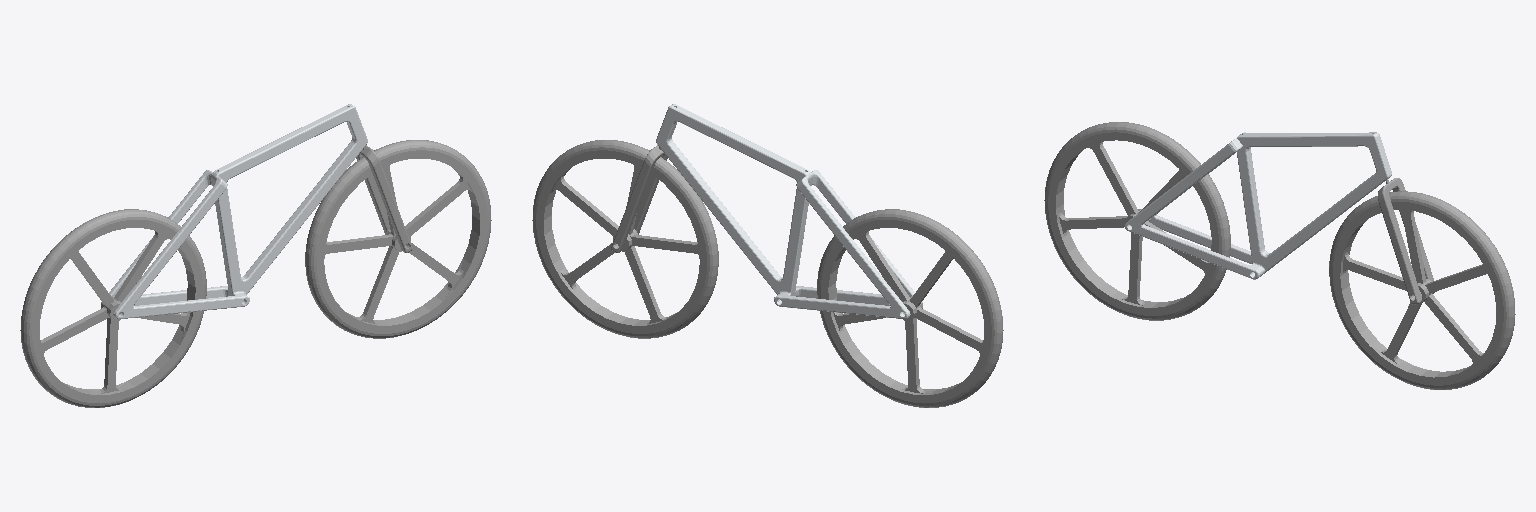
URDF robot description (bike250311):
<?xml version="1.0" encoding="utf-8"?>
<!-- This URDF was automatically created by SolidWorks to URDF Exporter! Originally created by [author] ([email redacted]) 
     Commit Version: 1.6.0-4-g7f85cfe  Build Version: 1.6.7995.38578
     For more information, please see http://wiki.ros.org/sw_urdf_exporter -->
<robot
  name="bike250311">
  <link
    name="base_link">
    <inertial>
      <origin
        xyz="0.058013 1.5196E-06 -0.18889"
        rpy="0 0 0" />
      <mass
        value="8.5884" />
      <inertia
        ixx="0.26235"
        ixy="1.7411E-06"
        ixz="-0.20526"
        iyy="0.75125"
        iyz="1.4708E-06"
        izz="0.50128" />
    </inertial>
    <visual>
      <origin
        xyz="0 0 0"
        rpy="0 0 0" />
      <geometry>
        <mesh
          filename="../meshes/base_link.STL" />
      </geometry>
      <material
        name="">
        <color
          rgba="0.89804 0.91765 0.92941 1" />
      </material>
    </visual>
    <collision>
      <origin
        xyz="0 0 0"
        rpy="0 0 0" />
      <geometry>
        <mesh
          filename="../meshes/base_link.STL" />
      </geometry>
    </collision>
  </link>
  <link
    name="front_turn">
    <inertial>
      <origin
        xyz="0.00014354 3.0121E-07 -0.34228"
        rpy="0 0 0" />
      <mass
        value="0.27217" />
      <inertia
        ixx="0.0042191"
        ixy="-1.9762E-11"
        ixz="-6.6991E-06"
        iyy="0.0037097"
        iyz="2.0584E-10"
        izz="0.00054854" />
    </inertial>
    <visual>
      <origin
        xyz="0 0 0"
        rpy="0 0 0" />
      <geometry>
        <mesh
          filename="../meshes/front_turn.STL" />
      </geometry>
      <material
        name="">
        <color
          rgba="0.69804 0.69804 0.69804 1" />
      </material>
    </visual>
    <collision>
      <origin
        xyz="0 0 0"
        rpy="0 0 0" />
      <geometry>
        <mesh
          filename="../meshes/front_turn.STL" />
      </geometry>
    </collision>
  </link>
  <joint
    name="joint_front_turn"
    type="revolute">
    <origin
      xyz="0.46535 0 0.12607"
      rpy="0 -0.34907 0" />
    <parent
      link="base_link" />
    <child
      link="front_turn" />
    <axis
      xyz="0 0 -1" />
    <limit effort="20" lower="-1.3" upper="1.3" velocity="12.5"/>
  </joint>
  <link
    name="front_wheel">
    <inertial>
      <origin
        xyz="-4.1633E-17 1.1102E-16 5.3105E-17"
        rpy="0 0 0" />
      <mass
        value="1.5911" />
      <inertia
        ixx="0.064566"
        ixy="1.5468E-17"
        ixz="1.6623E-17"
        iyy="0.064566"
        iyz="7.5899E-19"
        izz="0.12861" />
    </inertial>
    <visual>
      <origin
        xyz="0 0 0"
        rpy="0 0 0" />
      <geometry>
        <mesh
          filename="../meshes/front_wheel.STL" />
      </geometry>
      <material
        name="">
        <color
          rgba="0.69804 0.69804 0.69804 1" />
      </material>
    </visual>
    <collision>
      <origin
        xyz="0 0 0"
        rpy="0 0 0" />
      <geometry>
        <cylinder length="0.05" radius="0.33"/>
      </geometry>
    </collision>
  </link>
  <joint
    name="joint_f_wheel"
    type="revolute">
    <origin
      xyz="0 0 -0.52791"
      rpy="1.5708 1.2217 3.1416" />
    <parent
      link="front_turn" />
    <child
      link="front_wheel" />
    <axis
      xyz="0 0 1" />
    <limit effort="30" lower="-10000" upper="10000" velocity="200"/>
  </joint>
  <link
    name="rear_wheel">
    <inertial>
      <origin
        xyz="-9.0206E-17 5.5511E-17 3.2298E-18"
        rpy="0 0 0" />
      <mass
        value="1.5911" />
      <inertia
        ixx="0.064566"
        ixy="2.6239E-17"
        ixz="2.3271E-20"
        iyy="0.064566"
        iyz="-1.496E-20"
        izz="0.12861" />
    </inertial>
    <visual>
      <origin
        xyz="0 0 0"
        rpy="0 0 0" />
      <geometry>
        <mesh
          filename="../meshes/rear_wheel.STL" />
      </geometry>
      <material
        name="">
        <color
          rgba="0.69804 0.69804 0.69804 1" />
      </material>
    </visual>
    <collision>
      <origin
        xyz="0 0 0"
        rpy="0 0 0" />
      <geometry>
        <cylinder length="0.05" radius="0.33"/>
      </geometry>
    </collision>
  </link>
  <joint
    name="joint_rear_wheel"
    type="revolute">
    <origin
      xyz="-0.37474 0 -0.37"
      rpy="1.5708 1.5708 0" />
    <parent
      link="base_link" />
    <child
      link="rear_wheel" />
    <axis
      xyz="0 0 -1" />
    <limit effort="30" lower="-1000000" upper="10000000" velocity="200"/>
  </joint>
</robot>

--- What the picture shows (computed from the rendered views, not written in the file) ---
The picture shows the robot from 3 angles, left to right: view 1: azimuth 30°, elevation 25°; view 2: azimuth 150°, elevation 25°; view 3: azimuth 330°, elevation 25°; orthographic projection.
Model bike250311 with 4 links and 3 joints (3 revolute), rooted at base_link, posed all joints at 0.
Visible links, largest first — view 1: rear_wheel, front_wheel, base_link, front_turn; view 2: rear_wheel, front_wheel, base_link, front_turn; view 3: front_wheel, rear_wheel, base_link, front_turn.
Boxes of the visible links, x1,y1,x2,y2 form: rear_wheel: [20, 209, 206, 407]; front_wheel: [305, 140, 491, 338]; base_link: [101, 104, 367, 318]; front_turn: [356, 145, 412, 252]; rear_wheel: [817, 209, 1003, 407]; front_wheel: [532, 140, 718, 338]; base_link: [656, 104, 922, 318]; front_turn: [611, 145, 667, 252]; front_wheel: [1329, 191, 1515, 389]; rear_wheel: [1044, 122, 1230, 320]; base_link: [1125, 132, 1391, 279]; front_turn: [1378, 178, 1433, 304].
Bounding box of the posed robot: 1.68 × 0.12 × 0.8283 m (x, y, z).
Meshes: 4 distinct files referenced, 4 mesh visuals loaded (4 binary STL).
